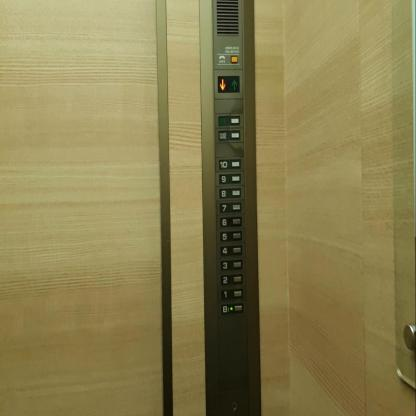1: (220, 287, 243, 301)
10: (217, 157, 241, 171)
2: (219, 272, 243, 286)
3: (219, 258, 243, 271)
4: (218, 244, 242, 257)
5: (218, 230, 242, 243)
6: (218, 215, 242, 228)
7: (218, 200, 242, 214)
8: (218, 186, 242, 199)
9: (218, 172, 242, 185)
B1: (221, 302, 243, 314)
call: (216, 52, 227, 65)
empty: (230, 54, 238, 63)
text_blur: (217, 113, 241, 126)
text_close door: (217, 128, 241, 141)
